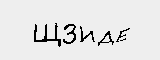Д: (96, 29, 115, 46)
Е: (115, 25, 130, 44)
З: (64, 22, 79, 46)
И: (80, 27, 96, 46)
Щ: (30, 22, 62, 46)
